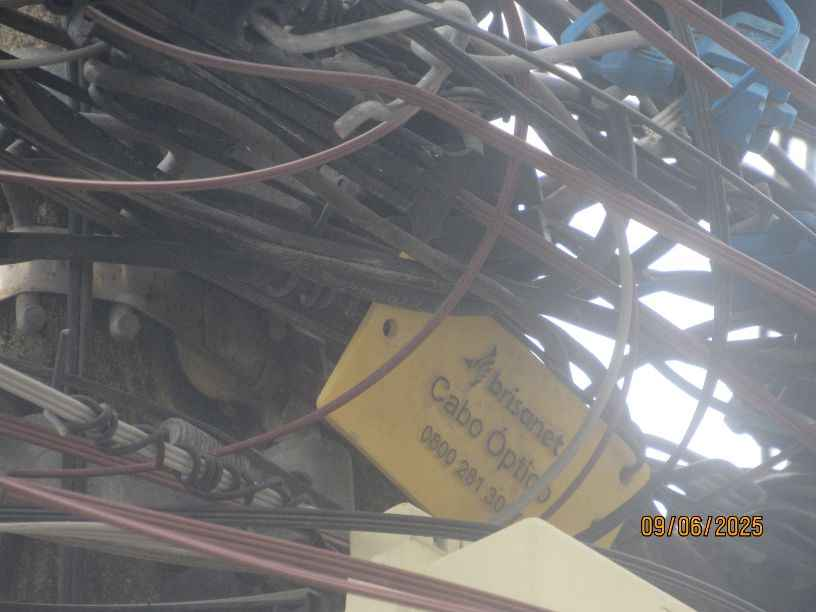fibra_optica: (293, 279, 656, 563)
